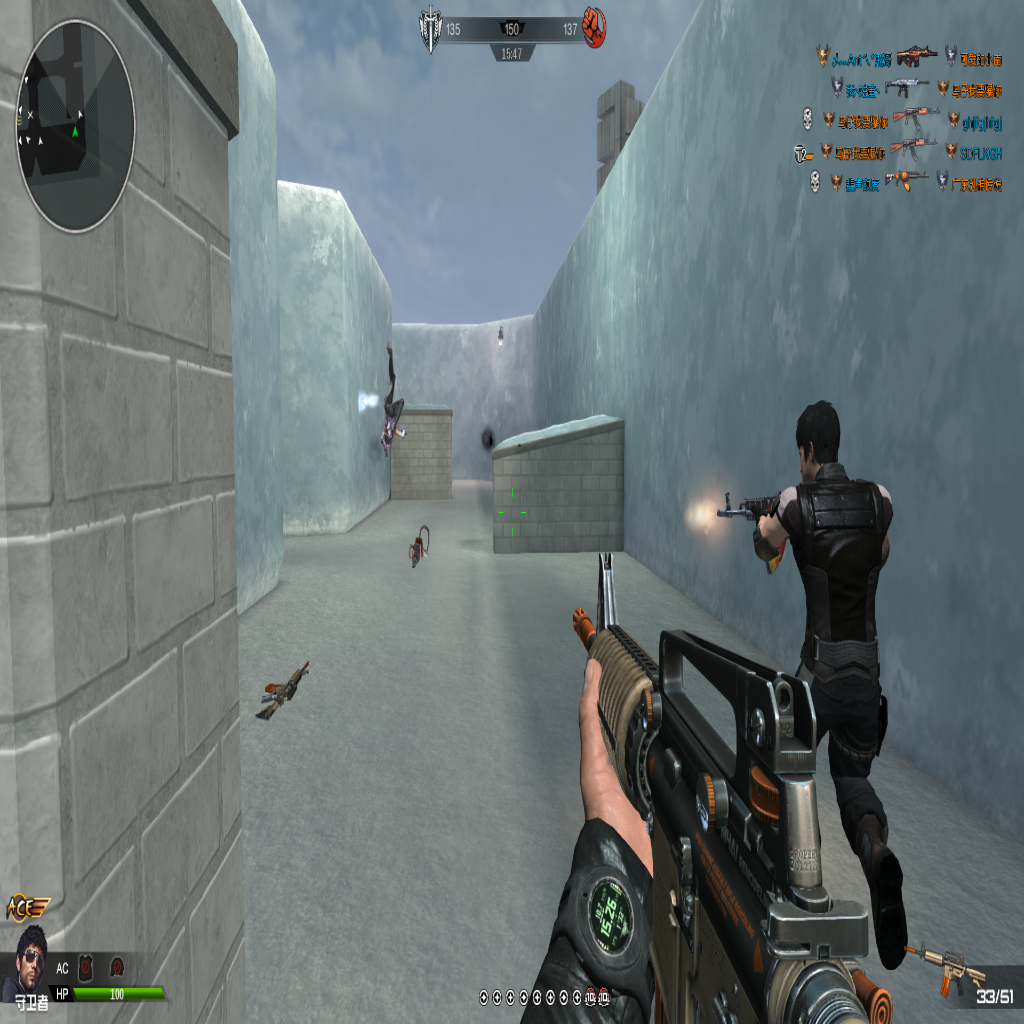ct: (745, 398, 904, 963)
